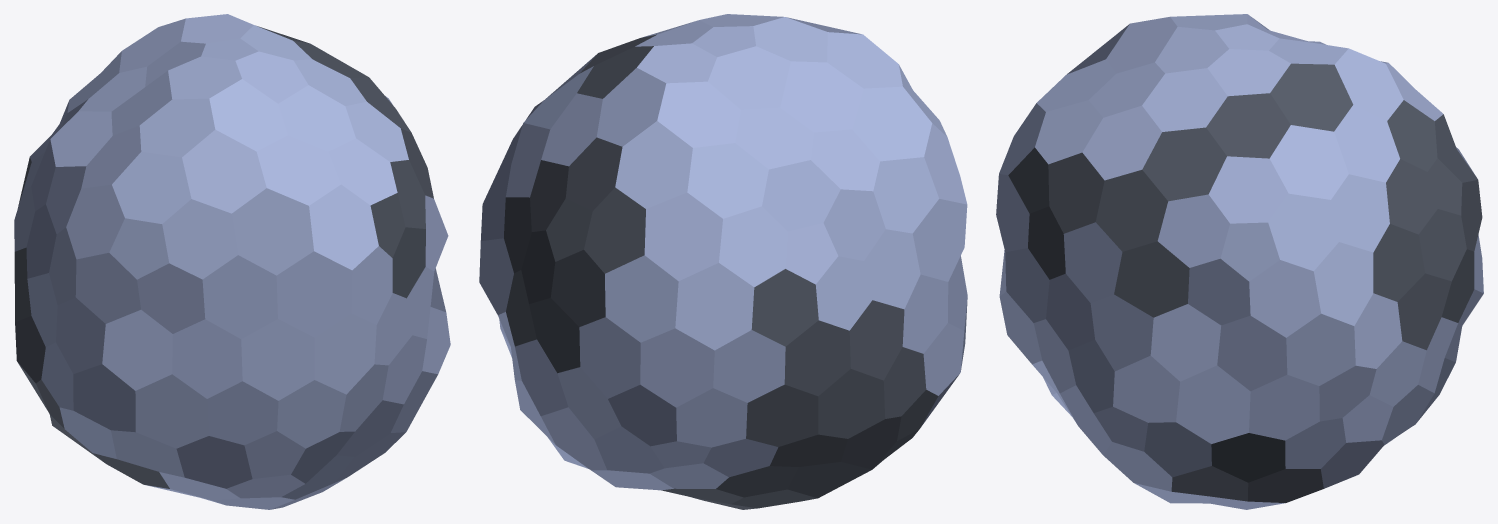
The model's file is moon.glb.
3 views of the same model, side by side, from view 1: azimuth 30°, elevation 25°; view 2: azimuth 150°, elevation 25°; view 3: azimuth 270°, elevation 25° (orthographic). The views are drawn at different scales.
Parts seen in each view (by area): view 1: Icosphere; view 2: Icosphere; view 3: Icosphere.
Part boxes in pixels (x1,y1,x2,y2): Icosphere: (14, 14, 450, 509); Icosphere: (479, 14, 967, 509); Icosphere: (996, 14, 1483, 509).
Bounding box in the file's own units: 1.78 × 1.92 × 1.89.
